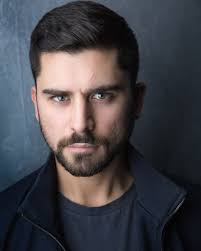middle_eastern_male: (36, 42, 140, 166)
